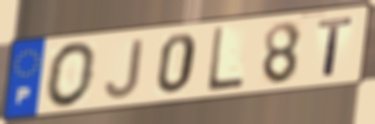0: (154, 32, 198, 97)
8: (261, 20, 303, 86)
J: (102, 37, 146, 101)
L: (204, 25, 246, 95)
O: (45, 40, 100, 109)
T: (315, 14, 356, 79)
